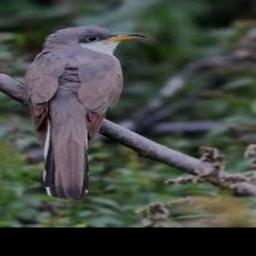Cuckoo: (23, 25, 146, 199)
